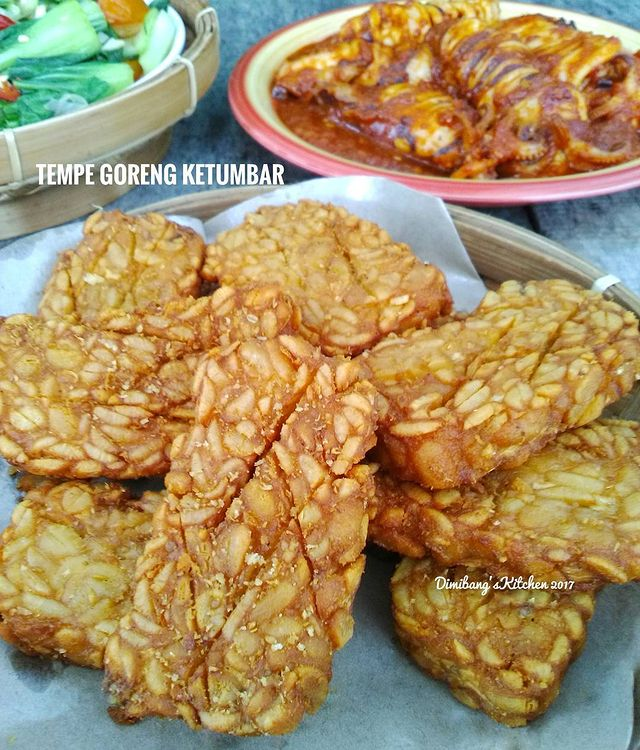Tempe: (88, 346, 351, 707), (390, 267, 628, 483), (379, 467, 634, 579), (386, 569, 592, 688)
